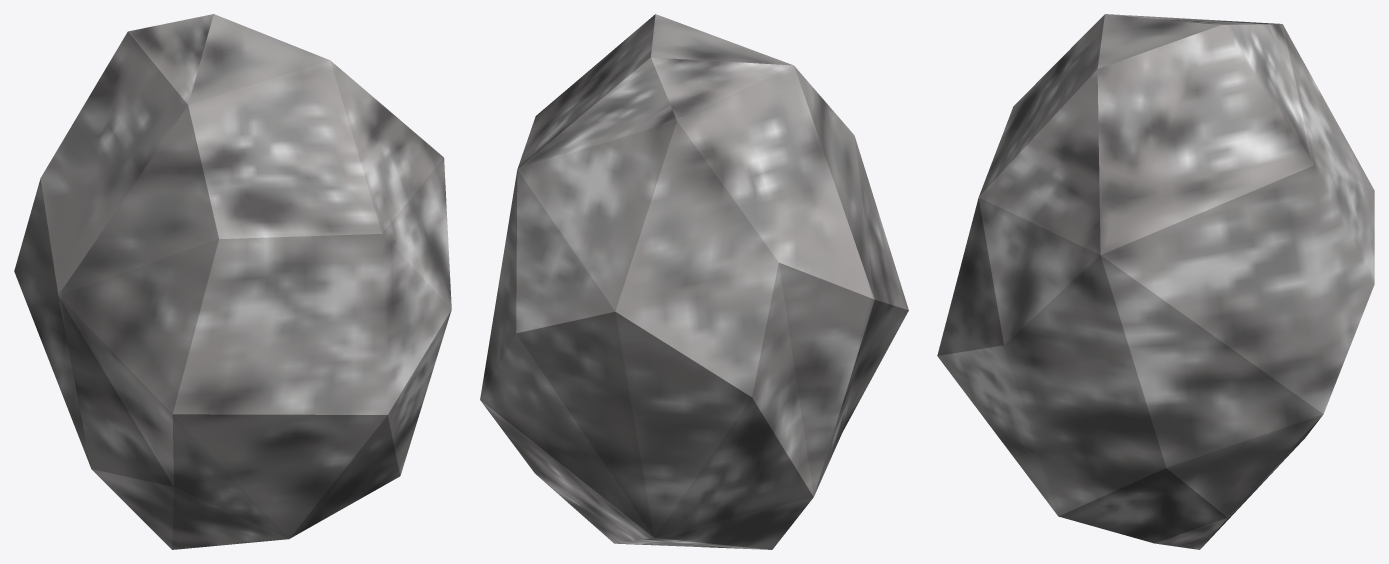
The model's file is big_rock_v2.glb.
The picture shows the model from 3 angles, left to right: view 1: azimuth 30°, elevation 25°; view 2: azimuth 150°, elevation 25°; view 3: azimuth 270°, elevation 25°; orthographic projection. The views are drawn at different scales.
Parts seen in each view (by area): view 1: Sphere.006; view 2: Sphere.006; view 3: Sphere.006.
Part boxes in pixels (x1,y1,x2,y2): Sphere.006: [14, 14, 451, 549]; Sphere.006: [480, 14, 908, 549]; Sphere.006: [937, 14, 1374, 549].
Bounding box in the file's own units: 7.17 × 9.42 × 7.44.
1 material, 1 textured.
